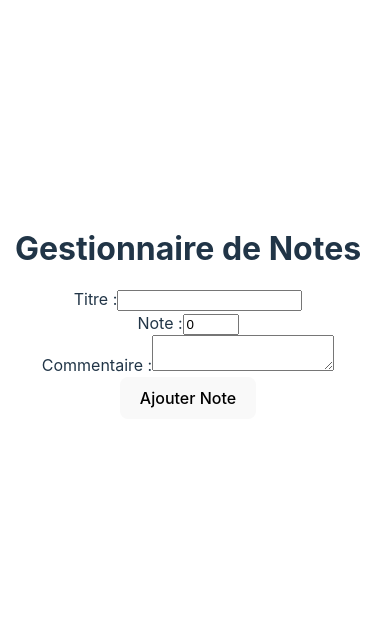
it: Notes App.tsx tests › notes list should have 2 elements
In the field with test id "note-title": (210, 301) [117,290,302,311], type "test"
In the number field with test id "note-number": (211, 325) [183,314,239,335], type "15"
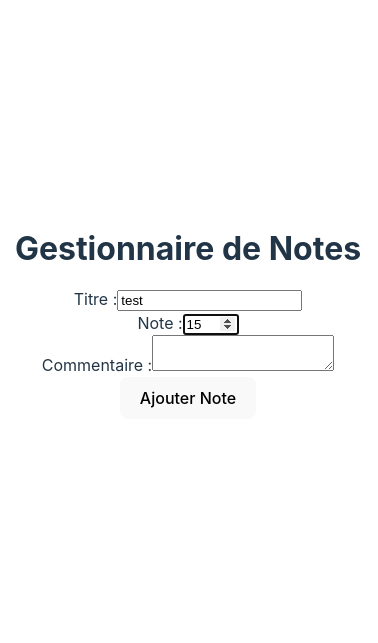
In the text box with test id "note-comment": (243, 353) [152,335,334,371], type "Hello world"
Click the button with test id "note-button": (188, 398) [120,377,256,419]
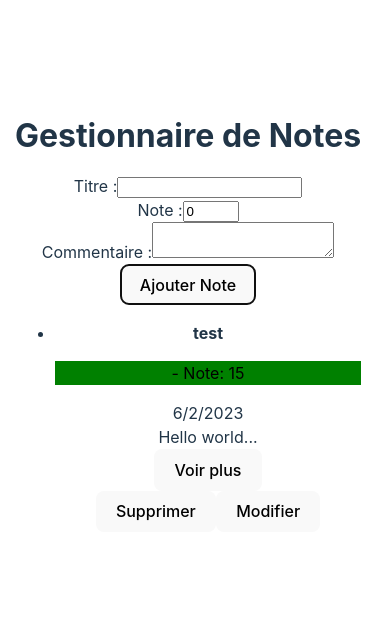
In the field with test id "note-title": (210, 188) [117,177,302,198], type "test2"
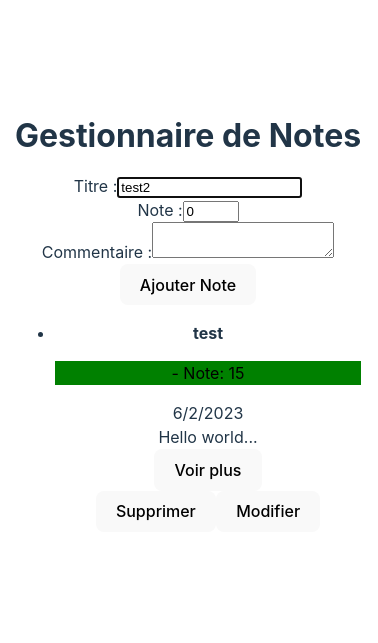
In the number field with test id "note-number": (211, 212) [183,201,239,222], type "15"
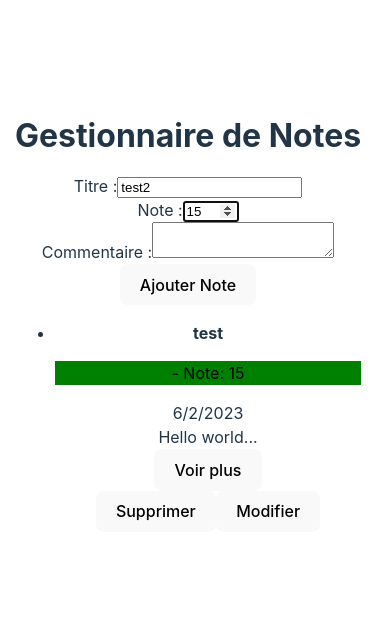
In the text box with test id "note-comment": (243, 240) [152,222,334,258], type "Hello world 2"
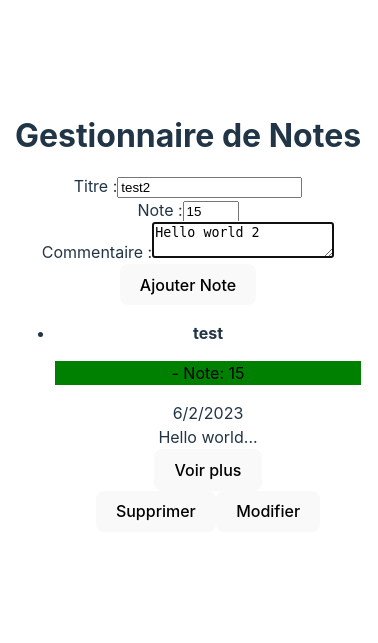
Click the button with test id "note-button": (188, 285) [120,264,256,306]
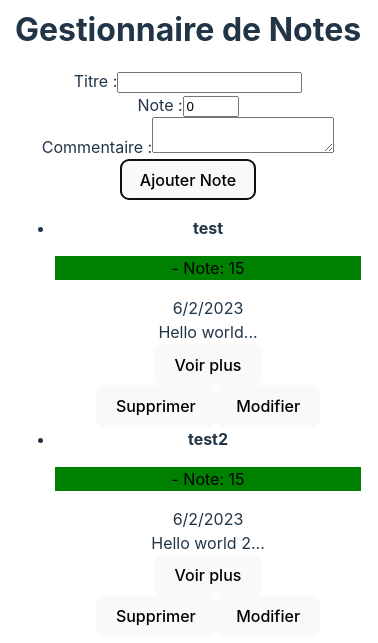
Result: the list with test id "note-list" shows "Hello world" at [158,322,244,342]
Result: the list with test id "note-list" shows "Hello world 2" at [151,533,251,553]
